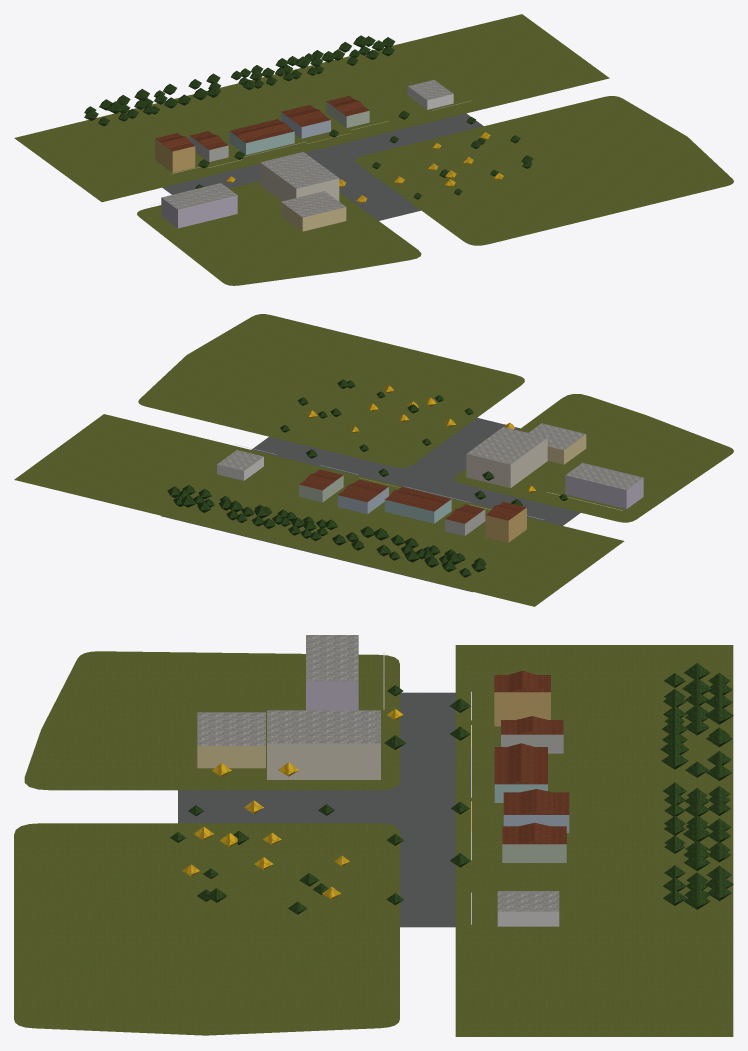
File: cidade_S02_07_lod.gltf
3 views of the same model, one above another, from view 1: azimuth 30°, elevation 25°; view 2: azimuth 150°, elevation 25°; view 3: azimuth 270°, elevation 25° (orthographic). The views are drawn at different scales.
Visible parts, largest first — view 1: S02_07_Chao_LOD2, S02_07_Edificios_LOD1, S02_07_Vegetacao_LOD2, S02_07_Silhueta_LOD2; view 2: S02_07_Chao_LOD2, S02_07_Edificios_LOD1, S02_07_Vegetacao_LOD2, S02_07_Silhueta_LOD2; view 3: S02_07_Chao_LOD2, S02_07_Edificios_LOD1, S02_07_Vegetacao_LOD2, S02_07_Silhueta_LOD2.
Part boxes in pixels (left/top/right/bottom): S02_07_Chao_LOD2: left=14, top=14, right=733, bottom=285; S02_07_Edificios_LOD1: left=149, top=79, right=471, bottom=231; S02_07_Vegetacao_LOD2: left=84, top=35, right=533, bottom=203; S02_07_Silhueta_LOD2: left=155, top=96, right=369, bottom=172; S02_07_Chao_LOD2: left=14, top=314, right=733, bottom=606; S02_07_Edificios_LOD1: left=217, top=423, right=643, bottom=542; S02_07_Vegetacao_LOD2: left=167, top=379, right=568, bottom=577; S02_07_Silhueta_LOD2: left=299, top=469, right=526, bottom=541; S02_07_Chao_LOD2: left=14, top=645, right=733, bottom=1036; S02_07_Edificios_LOD1: left=197, top=635, right=569, bottom=926; S02_07_Vegetacao_LOD2: left=170, top=663, right=733, bottom=914; S02_07_Silhueta_LOD2: left=494, top=675, right=569, bottom=862.
Bounding box in the file's own units: 167 × 7.82 × 130.
Materials: 15 (15 with a texture image).
